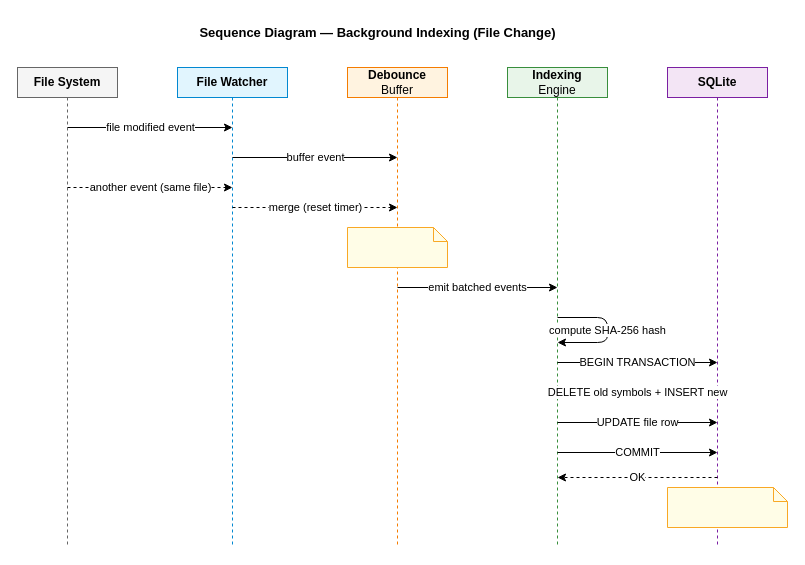
The diagram is 805 pixels wide and 565 high, and some of its shapes have lost their labels. The centre of each missing label's shape, as x and y in pixels:
"2s quiet period (debounce)" goes at pixel 397 247.
"Total: < 5s from file save to index" goes at pixel 727 507.
